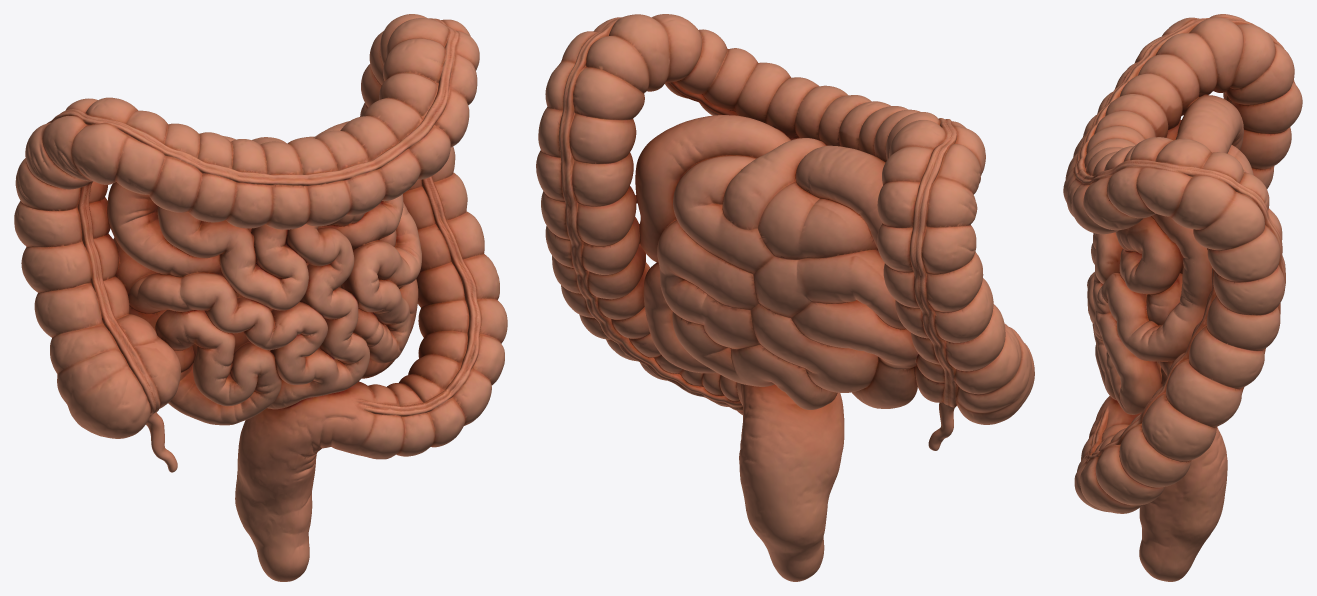
The model's file is intestine.glb.
3 views of the same model, side by side, from view 1: azimuth 30°, elevation 25°; view 2: azimuth 150°, elevation 25°; view 3: azimuth 270°, elevation 25° (orthographic). The views are drawn at different scales.
Parts seen in each view (by area): view 1: tripo_node_62b379d0-ce68-4c4f-9391-eb1f11136f30; view 2: tripo_node_62b379d0-ce68-4c4f-9391-eb1f11136f30; view 3: tripo_node_62b379d0-ce68-4c4f-9391-eb1f11136f30.
Part boxes in pixels (<box>): tripo_node_62b379d0-ce68-4c4f-9391-eb1f11136f30: <box>14,14,507,581</box>; tripo_node_62b379d0-ce68-4c4f-9391-eb1f11136f30: <box>536,14,1034,581</box>; tripo_node_62b379d0-ce68-4c4f-9391-eb1f11136f30: <box>1063,14,1302,581</box>.
Size of the model in its own units: 0.8861 by 1 by 0.4269.
Materials: 1 (1 with a texture image).
